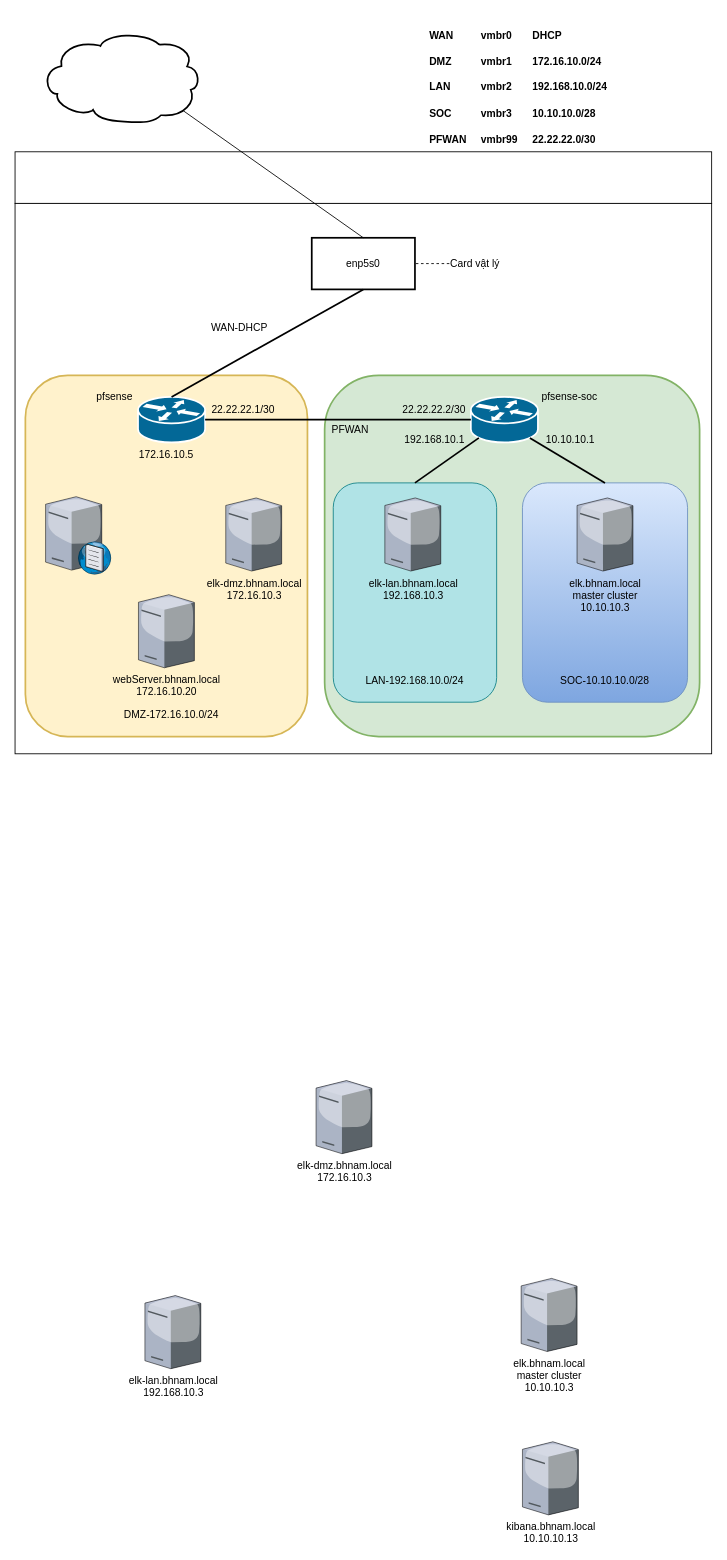
The diagram is 727 pixels wide and 1560 high, and some of its shapes have lost their labels. The centre of each missing label's shape, as x and y in pixels:
"dnsServer.bhnam.local 172.16.10.30" goes at (78,534).
"Internet" goes at (120,76).
"PROXMOX" goes at (363,177).
